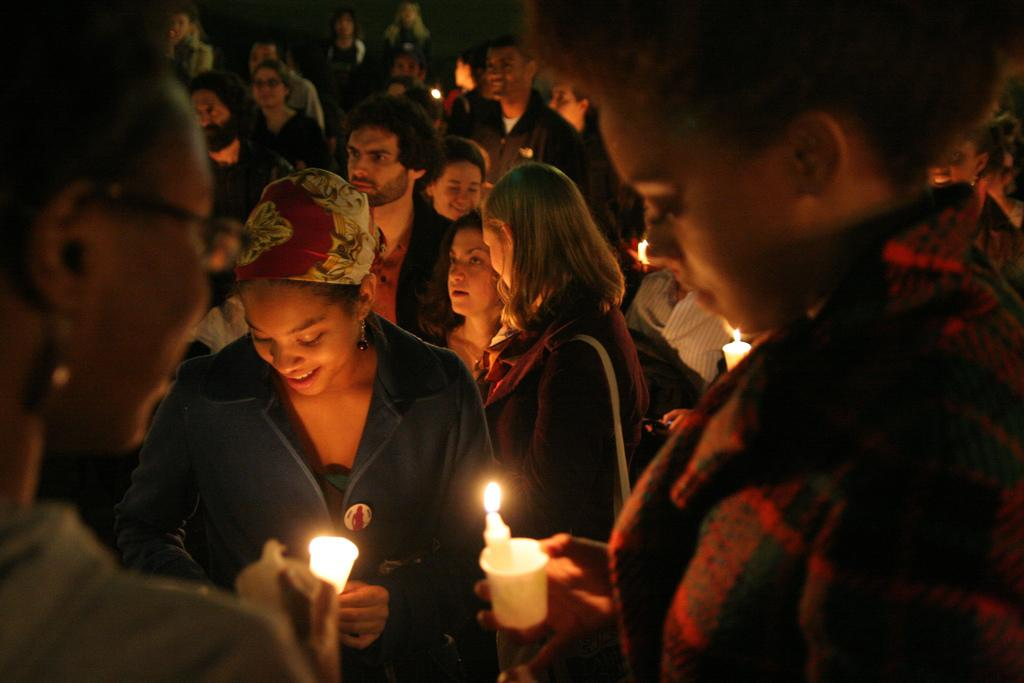fire: (317, 540, 352, 568), (482, 487, 502, 507), (733, 322, 745, 353)
